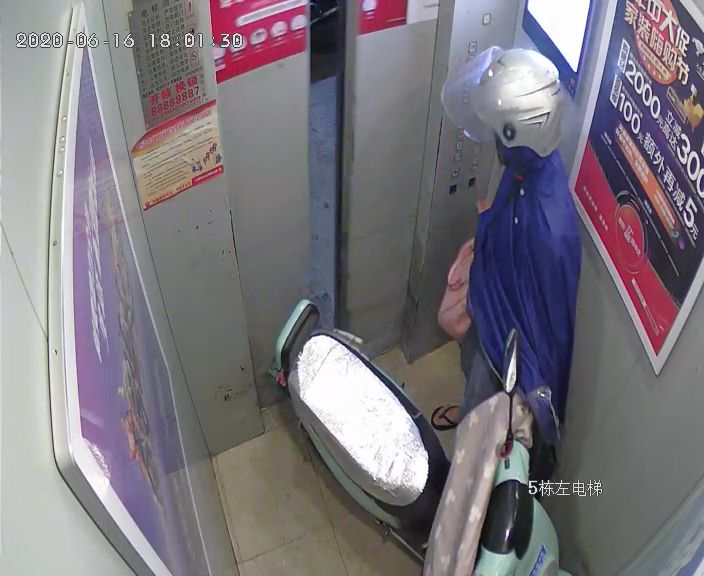Electric-bicycle: (267, 285, 567, 571)
